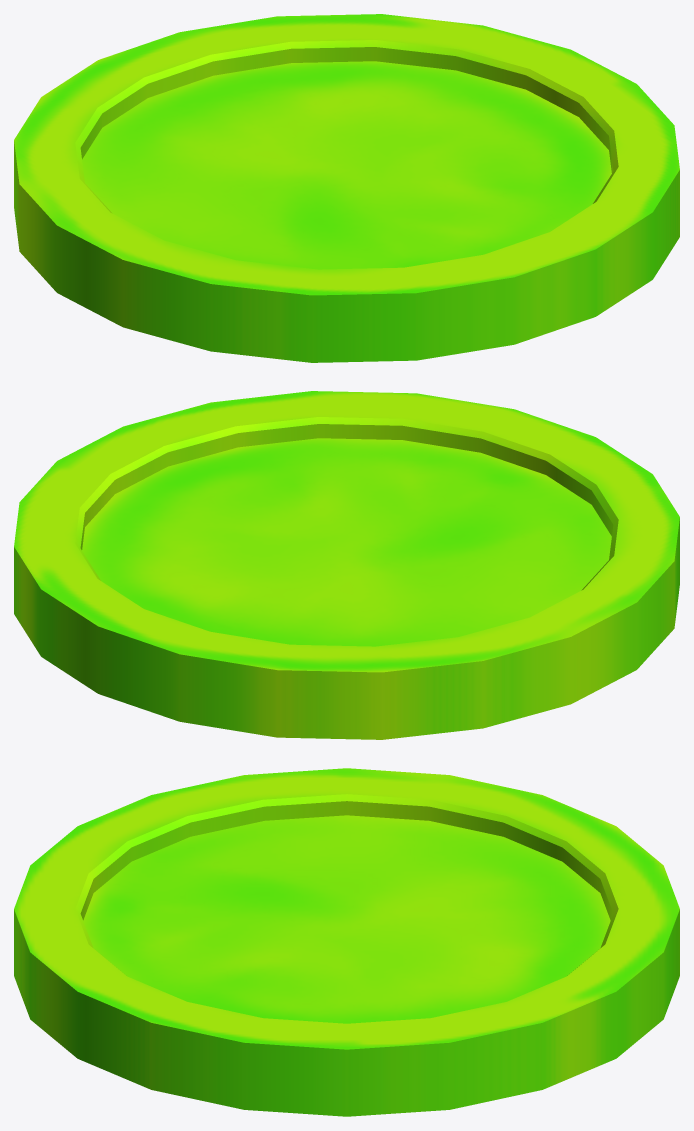
The model's file is puck.fbx.
3 renders of one model, top to bottom at view 1: azimuth 30°, elevation 25°; view 2: azimuth 150°, elevation 25°; view 3: azimuth 270°, elevation 25°, orthographic.
Visible parts, largest first — view 1: Puck; view 2: Puck; view 3: Puck.
Boxes of the visible parts, <box> form: Puck: <box>14,14,679,362</box>; Puck: <box>14,391,679,739</box>; Puck: <box>14,768,679,1116</box>.
Bounding box in the file's own units: 14.66 × 1.63 × 14.66.
